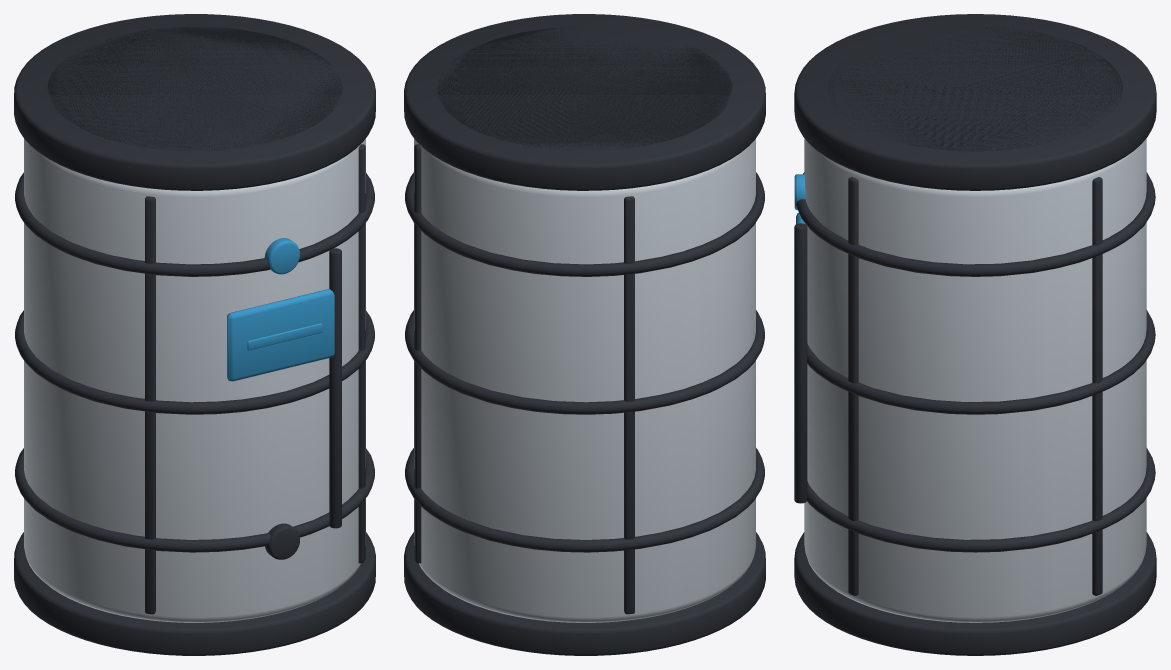
Rendered from procedural-tank-pod.glb.
3 renders of one model, left to right at view 1: azimuth 30°, elevation 25°; view 2: azimuth 150°, elevation 25°; view 3: azimuth 270°, elevation 25°, orthographic.
Visible parts, largest first — view 1: PTANK_POD_Shell, PTANK_POD_Flange_Bottom, PTANK_POD_Seal_Bottom, PTANK_POD_Port_Upper; view 2: PTANK_POD_Shell, PTANK_POD_Flange_Bottom, PTANK_POD_Seal_Bottom; view 3: PTANK_POD_Shell, PTANK_POD_Flange_Bottom, PTANK_POD_Seal_Bottom.
Boxes of the visible parts, x1,y1,x2,y2 form: PTANK_POD_Shell: (24,138,365,622); PTANK_POD_Flange_Bottom: (14,14,375,655); PTANK_POD_Seal_Bottom: (47,26,342,151); PTANK_POD_Port_Upper: (227,238,334,381); PTANK_POD_Shell: (414,138,755,622); PTANK_POD_Flange_Bottom: (404,14,765,655); PTANK_POD_Seal_Bottom: (437,27,732,150); PTANK_POD_Shell: (804,138,1146,622); PTANK_POD_Flange_Bottom: (794,14,1156,655); PTANK_POD_Seal_Bottom: (828,27,1122,151).
Bounding box in the file's own units: 1.2 × 1.8 × 1.2.
